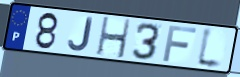3: (131, 22, 162, 62)
8: (35, 11, 59, 50)
F: (161, 24, 199, 64)
H: (95, 16, 132, 61)
J: (67, 16, 94, 53)
L: (195, 25, 225, 72)
